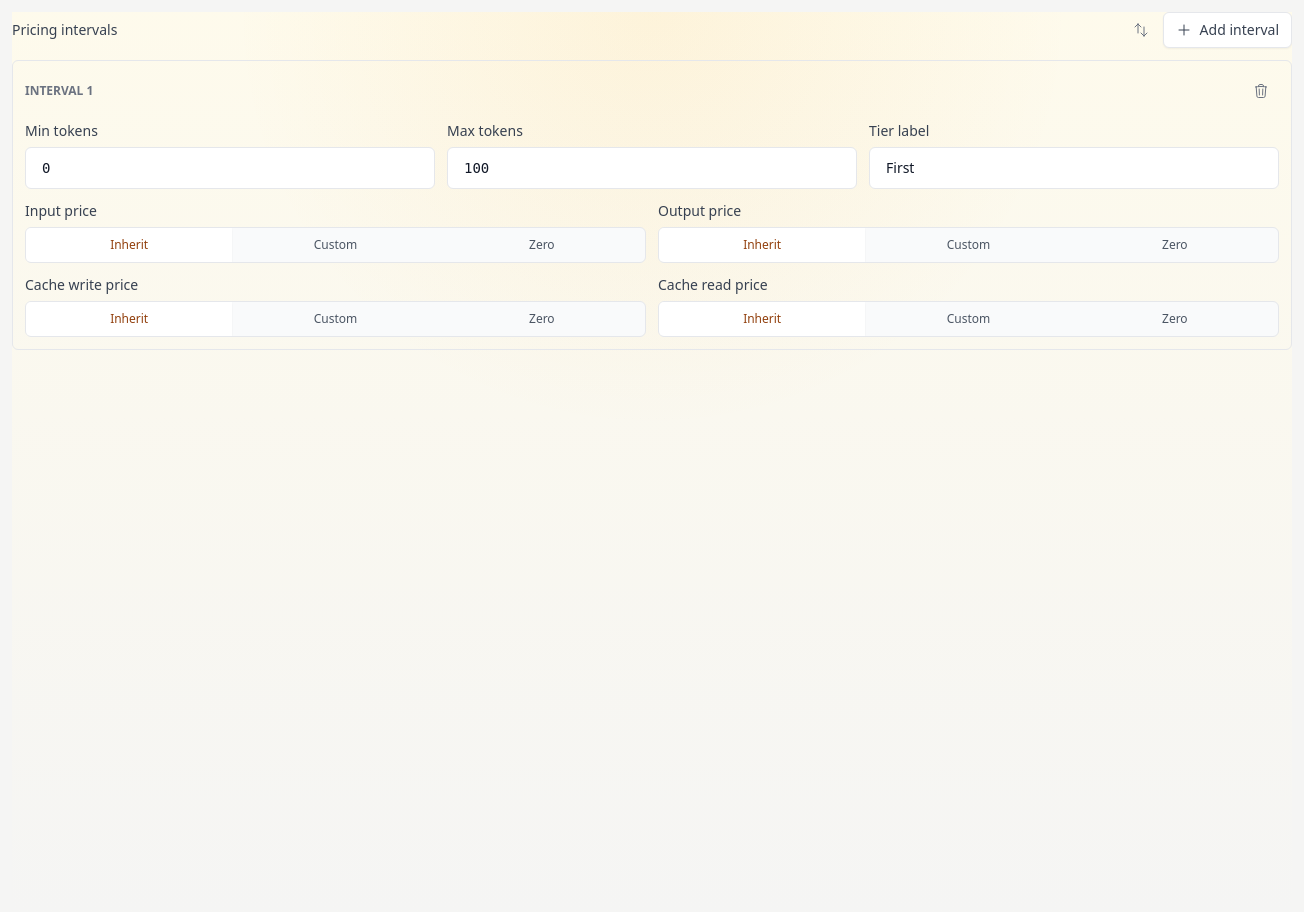
Test: PricingIntervalsEditor › supports adding and deleting rows
The width and height of the screenshot is (1304, 912).
What coordinates should you click on to do the following:
click the button with aria-label "Add interval"
I would click on:
 (1227, 30)
Its box is [1163,12,1292,48].
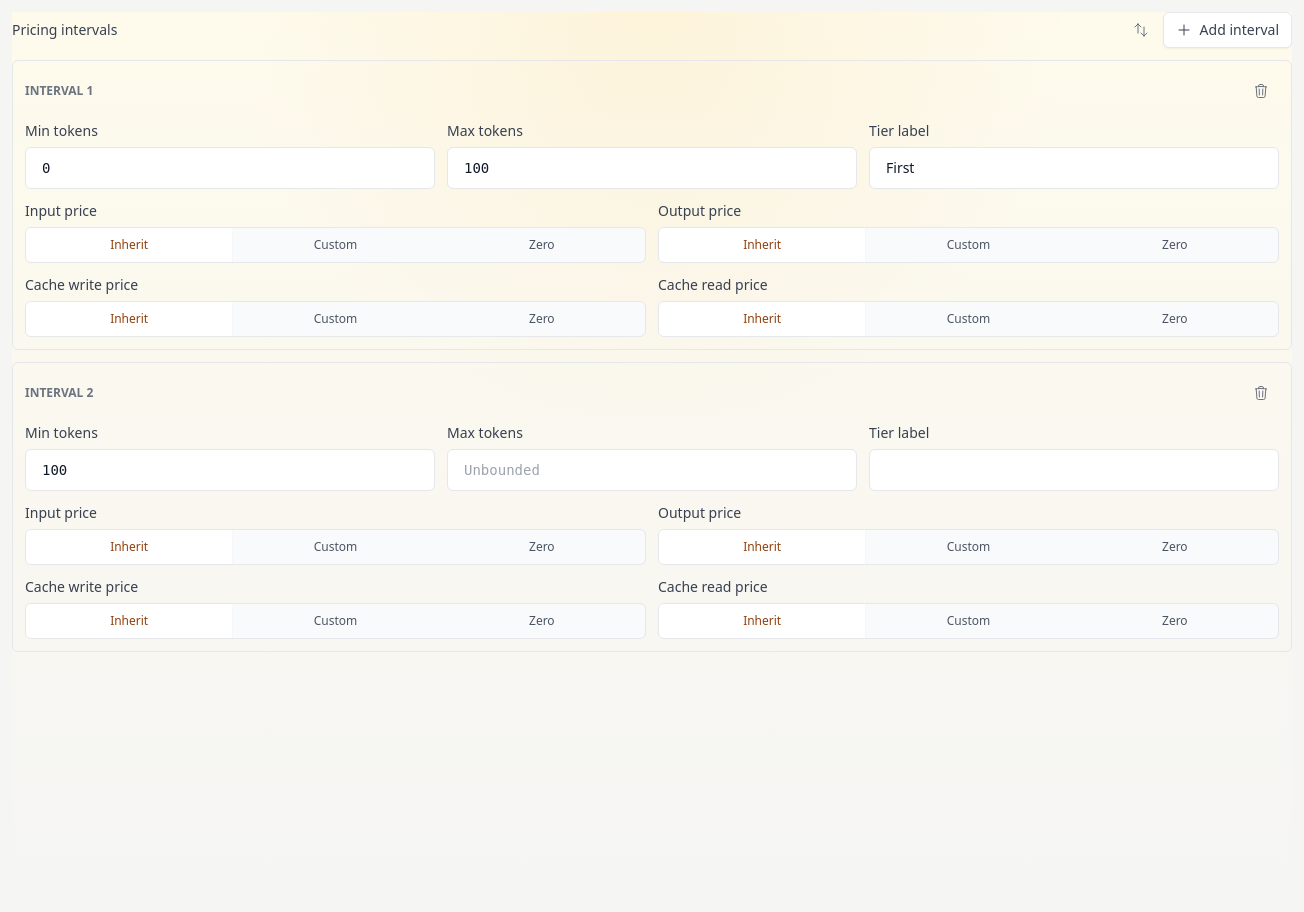
Expected: the number of elements with test id "interval-row" is 2, [12,60,1292,350]; [12,362,1292,652]
What coordinates should you click on to do the following:
click the button named "Delete interval 2"
I would click on:
 (1261, 393)
Its box is [1243,375,1279,411].
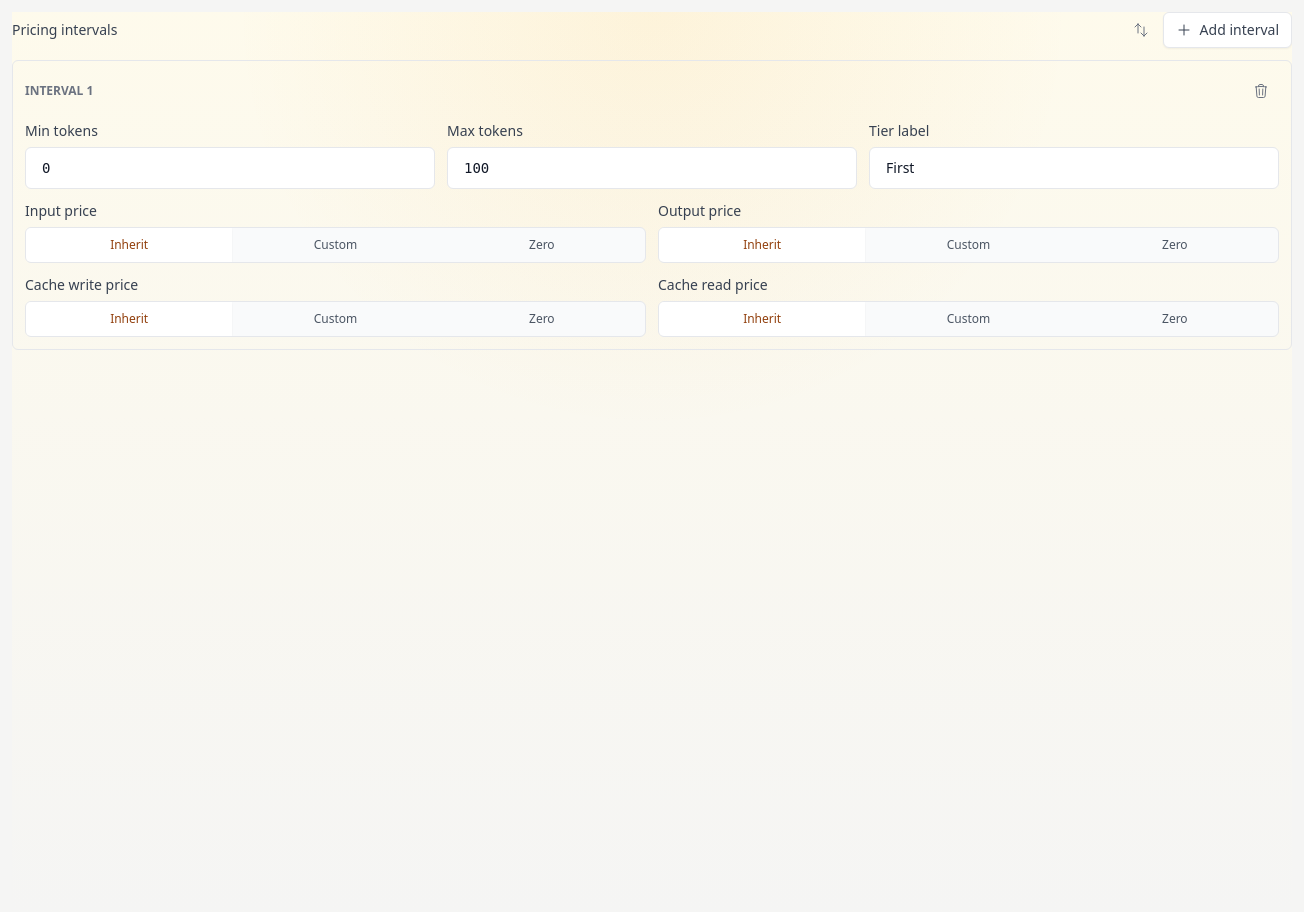
Expected: the number of elements with test id "interval-row" is 1, [12,60,1292,350]
